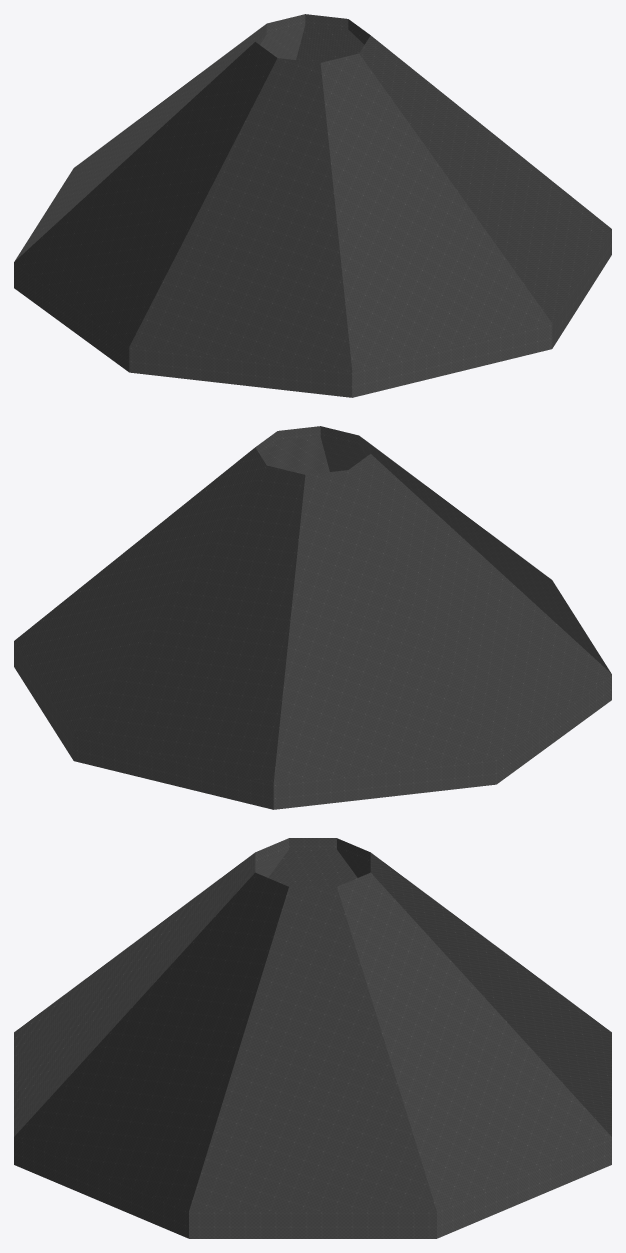
Rendered from Roof.fbx.
The picture shows the model from 3 angles, top to bottom: view 1: azimuth 30°, elevation 25°; view 2: azimuth 150°, elevation 25°; view 3: azimuth 270°, elevation 25°; orthographic projection. The views are drawn at different scales.
Parts seen in each view (by area): view 1: Roof; view 2: Roof; view 3: Roof.
Part boxes in pixels (x1,y1,x2,y2): Roof: (14,14,611,397); Roof: (14,426,611,809); Roof: (14,838,611,1238).
Size of the model in its own units: 1537 by 709 by 1537.
